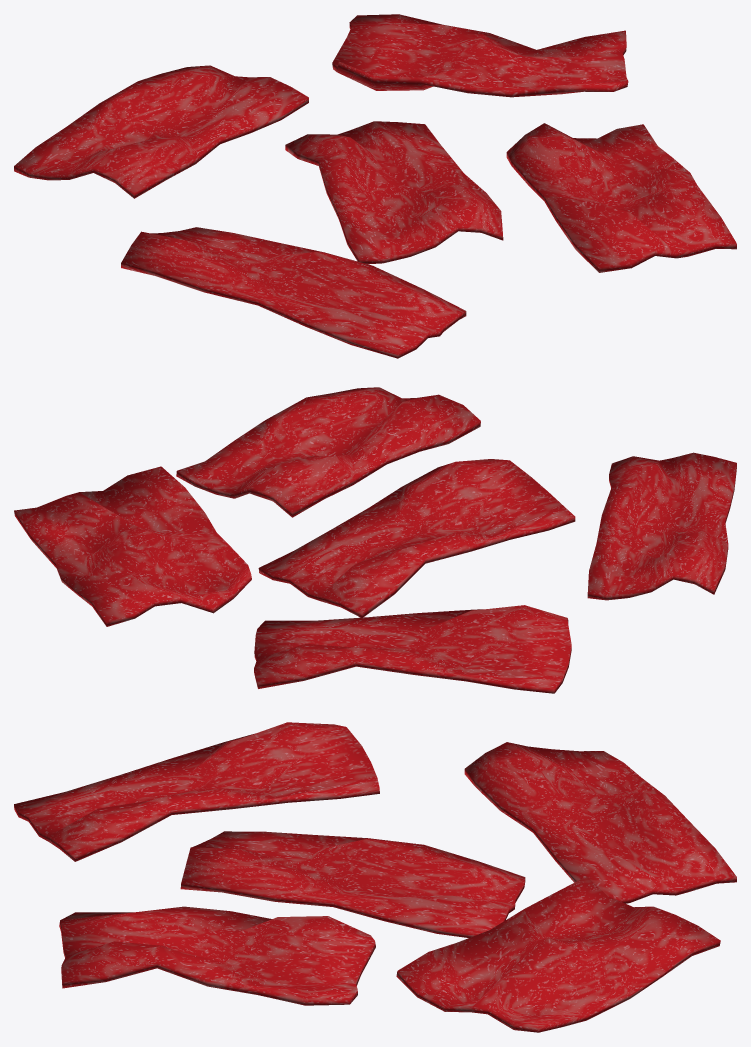
Rendered from yakiniku_00.glb.
The picture shows the model from 3 angles, top to bottom: view 1: azimuth 30°, elevation 25°; view 2: azimuth 150°, elevation 25°; view 3: azimuth 270°, elevation 25°; orthographic projection. The views are drawn at different scales.
Parts seen in each view (by area): view 1: yakiniku.005, yakiniku.004, yakiniku.001, yakiniku.003, yakiniku.002; view 2: yakiniku.003, yakiniku.002, yakiniku.001, yakiniku.004, yakiniku.005; view 3: yakiniku.002, yakiniku.001, yakiniku.003, yakiniku.005, yakiniku.004.
Part boxes in pixels (bbox=[...]): yakiniku.005: bbox=[121, 227, 466, 358]; yakiniku.004: bbox=[506, 123, 736, 272]; yakiniku.001: bbox=[14, 65, 308, 198]; yakiniku.003: bbox=[285, 121, 503, 264]; yakiniku.002: bbox=[332, 14, 628, 97]; yakiniku.003: bbox=[258, 459, 575, 617]; yakiniku.002: bbox=[14, 466, 251, 626]; yakiniku.001: bbox=[254, 605, 571, 693]; yakiniku.004: bbox=[176, 387, 480, 517]; yakiniku.005: bbox=[587, 452, 736, 600]; yakiniku.002: bbox=[396, 876, 720, 1032]; yakiniku.001: bbox=[464, 742, 736, 903]; yakiniku.003: bbox=[180, 831, 525, 937]; yakiniku.005: bbox=[14, 722, 379, 861]; yakiniku.004: bbox=[59, 906, 375, 1005].
Bounding box in the file's own units: 0.1808 × 0.0133 × 0.1797.
1 material, 1 textured.
